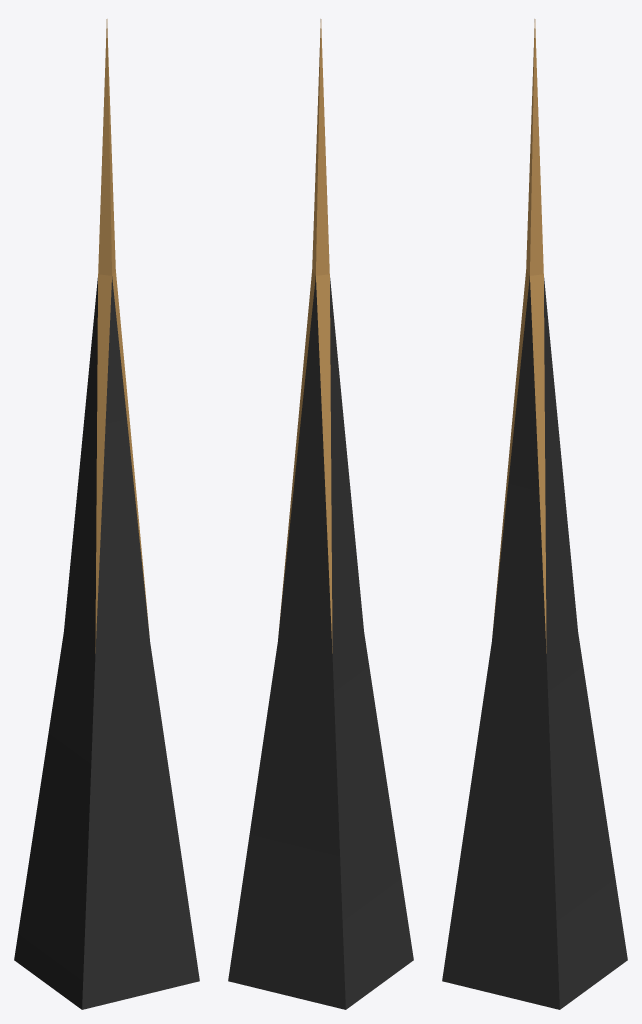
File: BossAttack_A.002.fbx
3 views of the same model, side by side, from view 1: azimuth 30°, elevation 25°; view 2: azimuth 150°, elevation 25°; view 3: azimuth 330°, elevation 25° (orthographic).
Parts seen in each view (by area): view 1: BossAttack_A_002; view 2: BossAttack_A_002; view 3: BossAttack_A_002.
Part boxes in pixels (x1,y1,x2,y2): BossAttack_A_002: [14, 19, 199, 1009]; BossAttack_A_002: [228, 19, 413, 1009]; BossAttack_A_002: [442, 19, 627, 1009].
Bounding box in the file's own units: 13.3 × 103 × 13.3.
